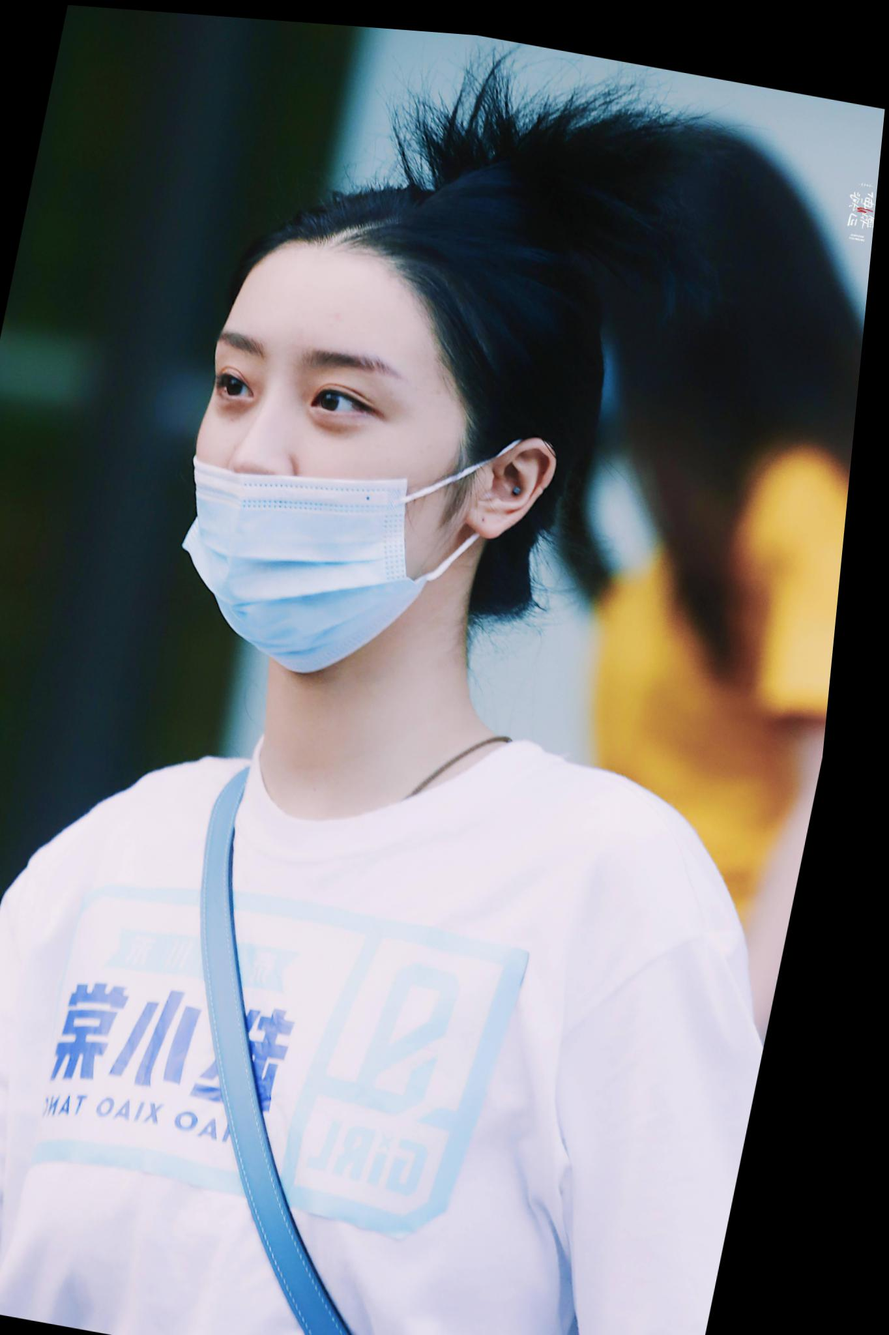WRONG: (168, 282, 479, 679)
